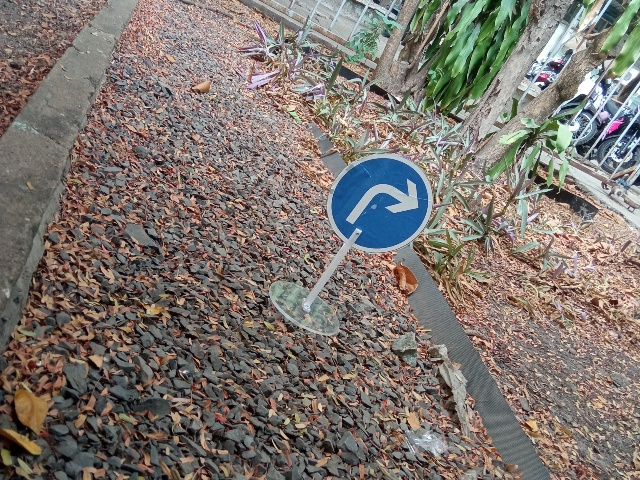Right_Sign: (328, 152, 433, 253)
